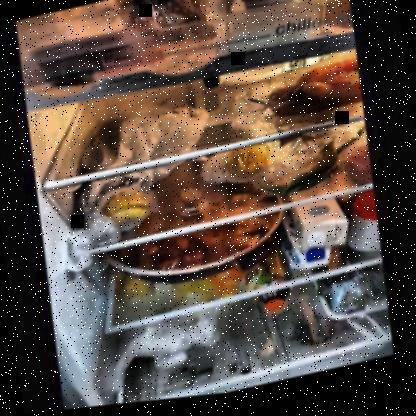broccoli: (318, 274, 387, 330)
carrot: (274, 68, 360, 123)
cheese: (220, 7, 316, 59)
green_chillies: (261, 146, 345, 205)
lemon: (99, 186, 160, 234), (221, 145, 276, 186)
milk: (206, 54, 333, 95), (283, 205, 348, 276)
salami: (36, 27, 126, 68)
tomato: (340, 156, 370, 193)
yoghurt: (244, 0, 313, 20)
